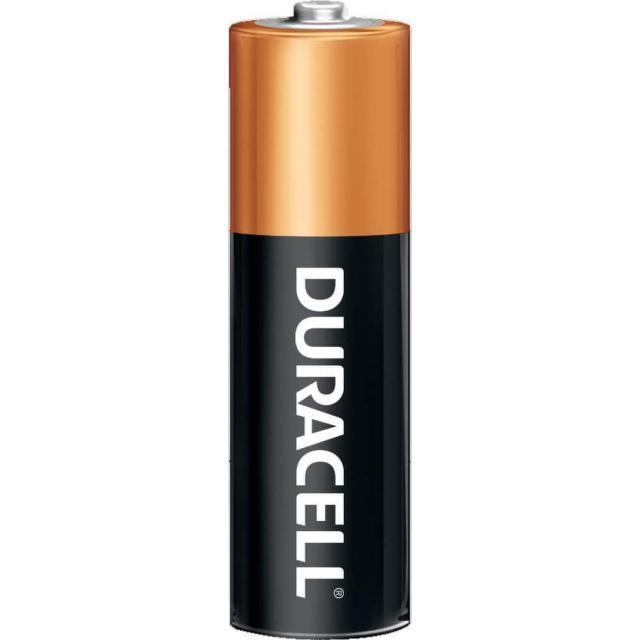AA: (227, 0, 412, 639)
